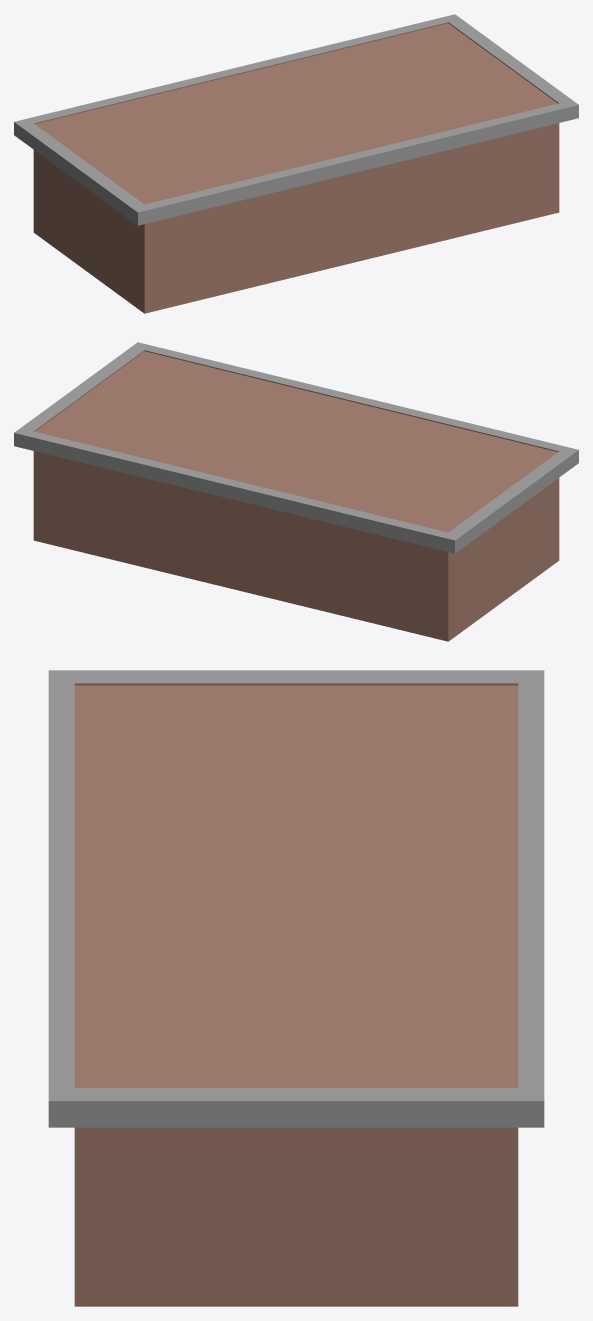
Rendered from Workbench.fbx.
3 views of the same model, one above another, from view 1: azimuth 30°, elevation 25°; view 2: azimuth 150°, elevation 25°; view 3: azimuth 270°, elevation 25° (orthographic). The views are drawn at different scales.
Parts seen in each view (by area): view 1: Workbench; view 2: Workbench; view 3: Workbench.
Part boxes in pixels (<box>): Workbench: <box>14,14,578,313</box>; Workbench: <box>14,342,578,641</box>; Workbench: <box>48,670,544,1306</box>.
Size of the model in its own units: 367 by 86.74 by 178.
